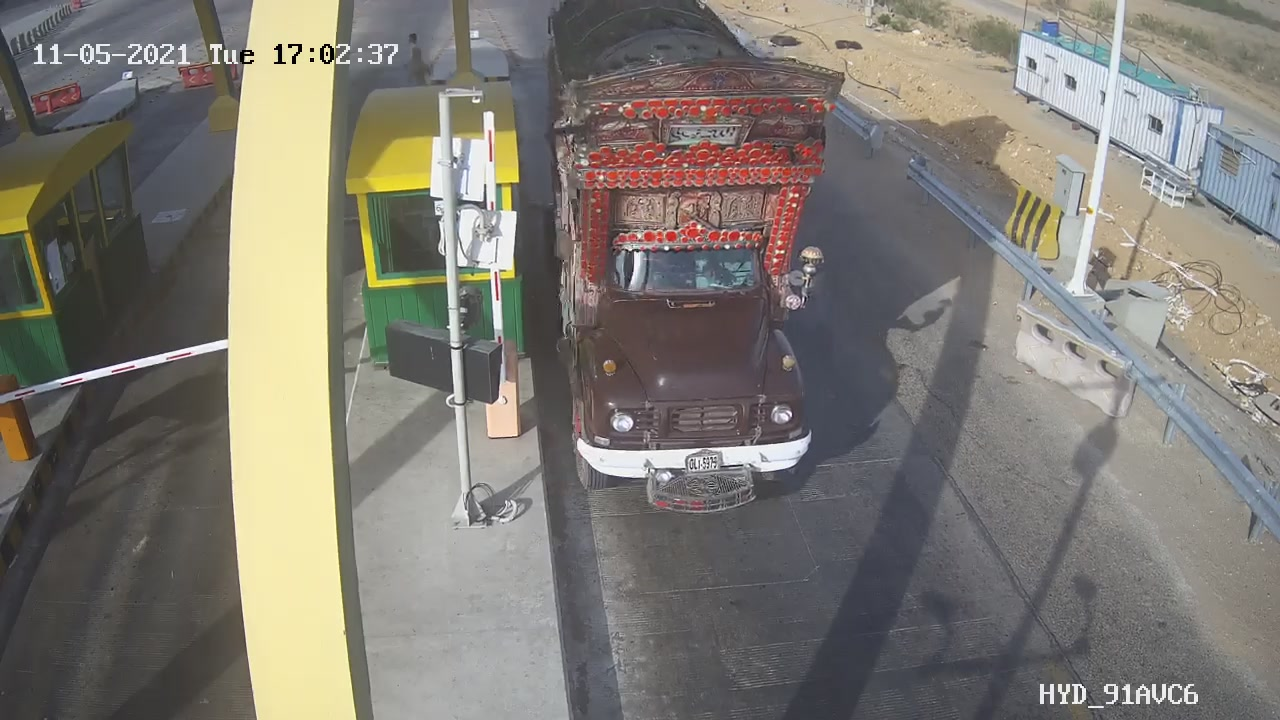F5: (530, 1, 861, 536)
